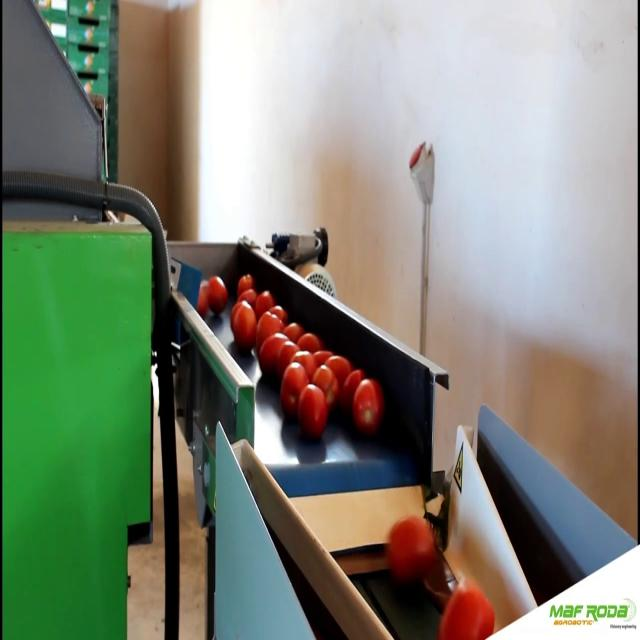Tomato: (386, 513, 438, 576), (440, 583, 496, 640), (296, 382, 330, 435), (355, 380, 387, 434), (231, 296, 256, 350), (260, 331, 288, 374), (208, 273, 230, 321), (283, 361, 304, 404), (312, 368, 336, 399), (341, 363, 362, 397), (258, 315, 282, 339), (197, 279, 211, 320), (328, 351, 350, 376), (301, 325, 320, 348), (254, 286, 270, 313), (238, 268, 251, 294), (286, 322, 302, 338)
